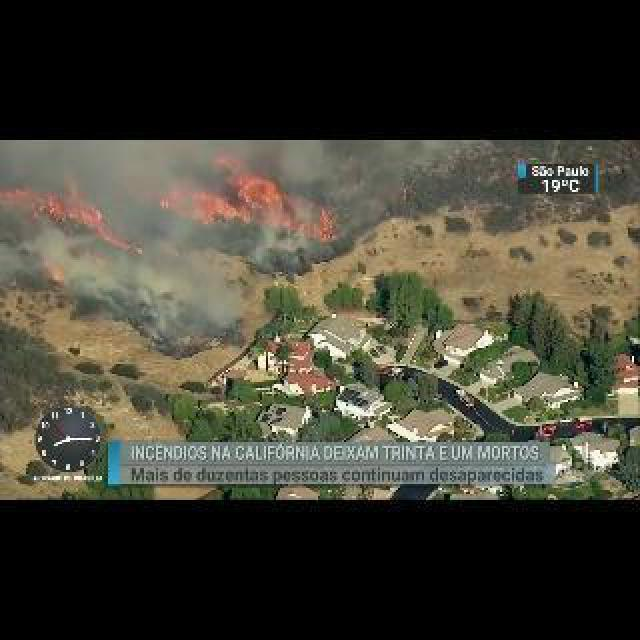Fire: (160, 156, 332, 240), (4, 188, 144, 252), (48, 270, 60, 280)
